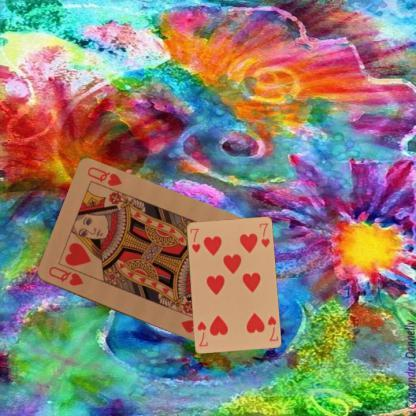7h: (187, 225, 201, 254), (265, 313, 279, 342)
Qh: (46, 264, 84, 288)
